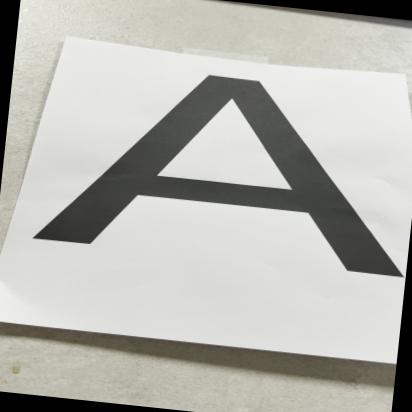seat: (12, 40, 412, 317)
